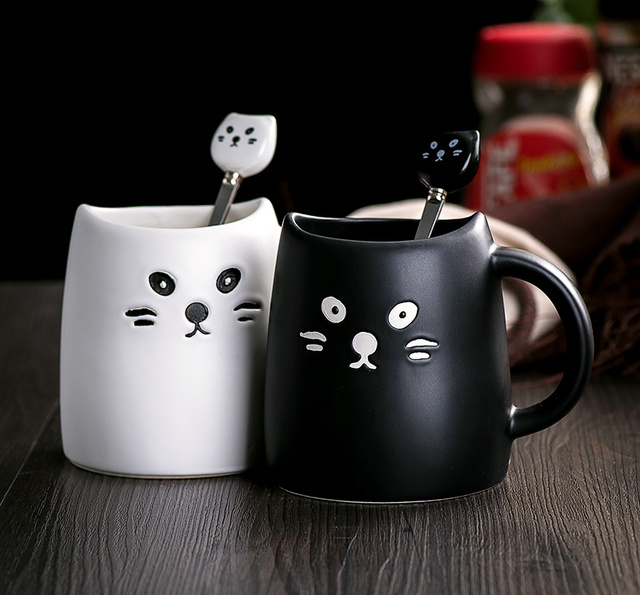cup: (259, 212, 598, 506), (54, 192, 306, 485)
